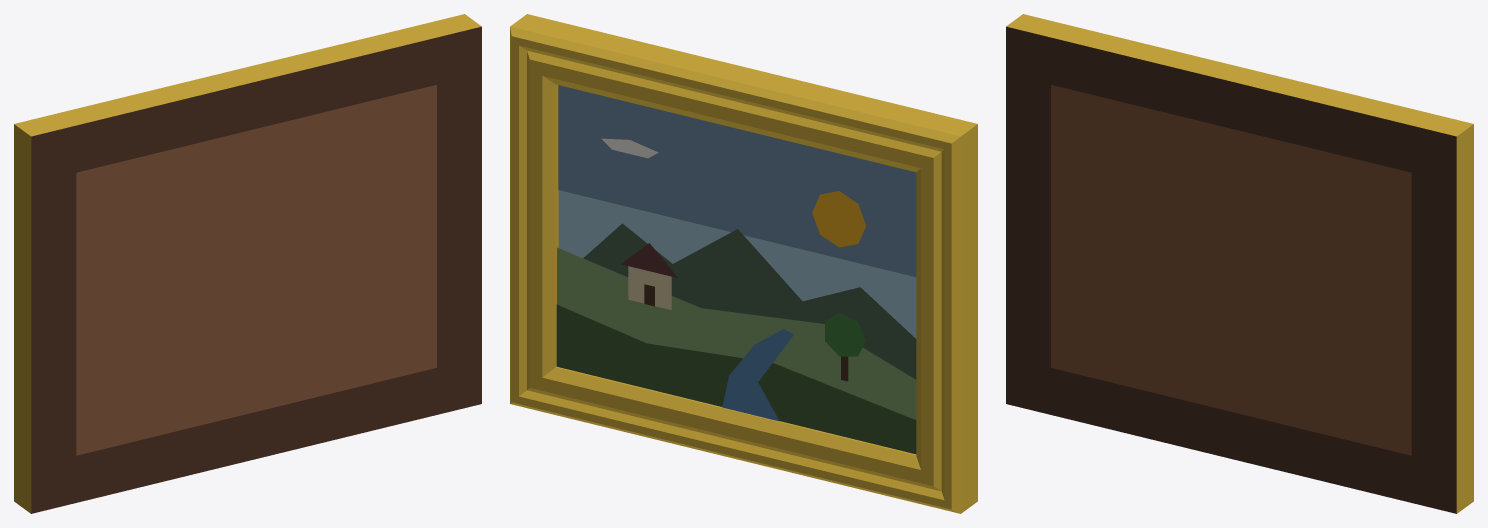
Rendered from painting.glb.
3 views of the same model, side by side, from view 1: azimuth 30°, elevation 25°; view 2: azimuth 150°, elevation 25°; view 3: azimuth 330°, elevation 25° (orthographic).
Parts seen in each view (by area): view 1: painting; view 2: painting; view 3: painting.
Part boxes in pixels (<box>): painting: <box>14,14,481,513</box>; painting: <box>510,14,977,513</box>; painting: <box>1006,14,1473,513</box>.
Bounding box in the file's own units: 0.5 × 0.4 × 0.04.
1 material, 1 textured.
